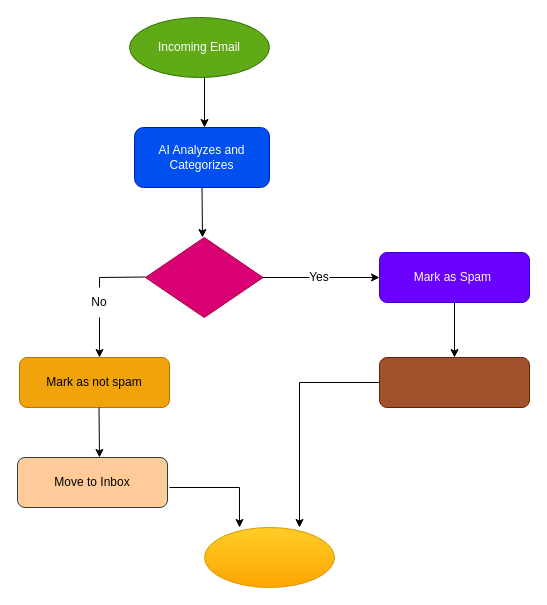
The diagram is 547 pixels wide and 605 high, and some of its shapes have lost their labels. The centre of each missing label's shape, as x and y in pixels:
End: the point at 269,557
Is Email Spam?: the point at 203,277
Move to spam Box: the point at 454,382
